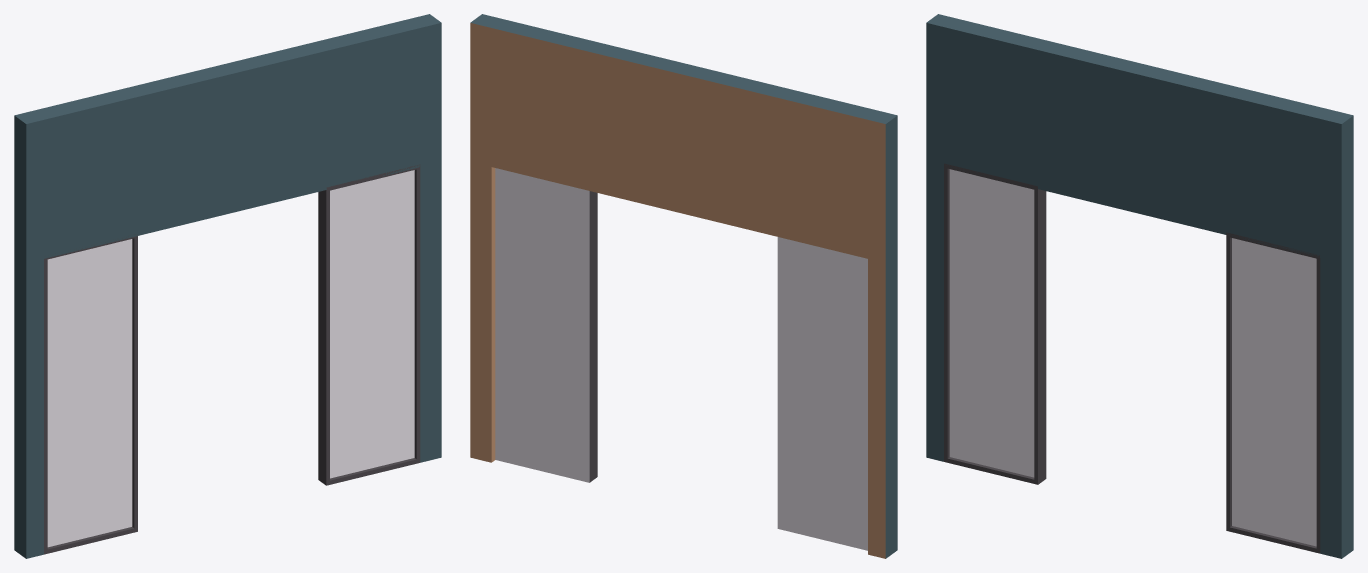
Rendered from KA_encadrement_porte_coulissante.fbx.
The picture shows the model from 3 angles, left to right: view 1: azimuth 30°, elevation 25°; view 2: azimuth 150°, elevation 25°; view 3: azimuth 330°, elevation 25°; orthographic projection.
Visible parts, largest first — view 1: Box012; view 2: Box012; view 3: Box012.
Part boxes in pixels (x1,y1,x2,y2): Box012: (14, 14, 441, 558); Box012: (470, 14, 897, 558); Box012: (926, 14, 1353, 558).
Bounding box in the file's own units: 157 × 157 × 7.87.
